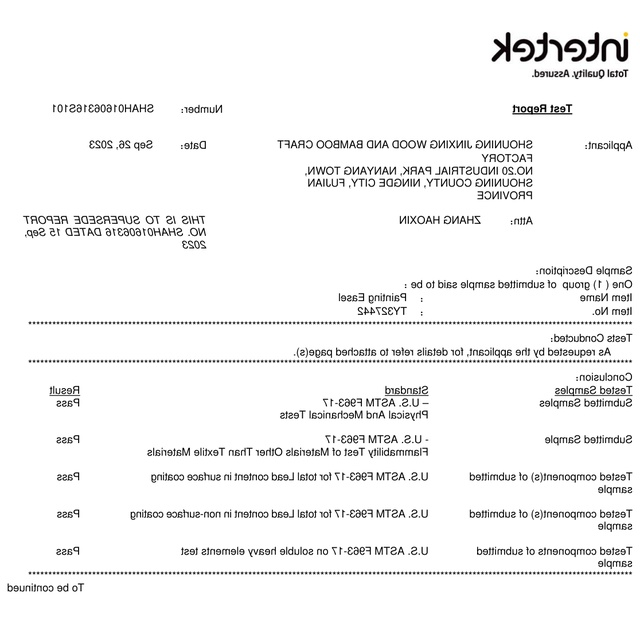intertek: (487, 29, 633, 68)
